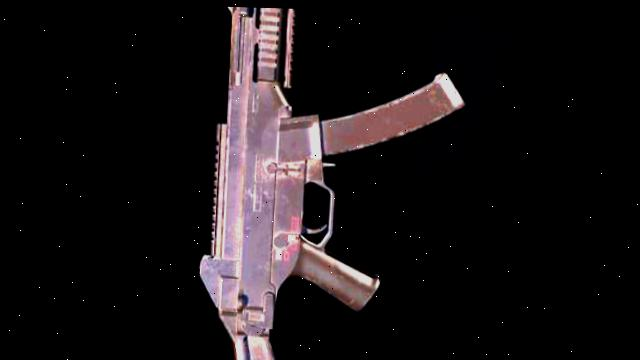rifle: (175, 4, 470, 360)
